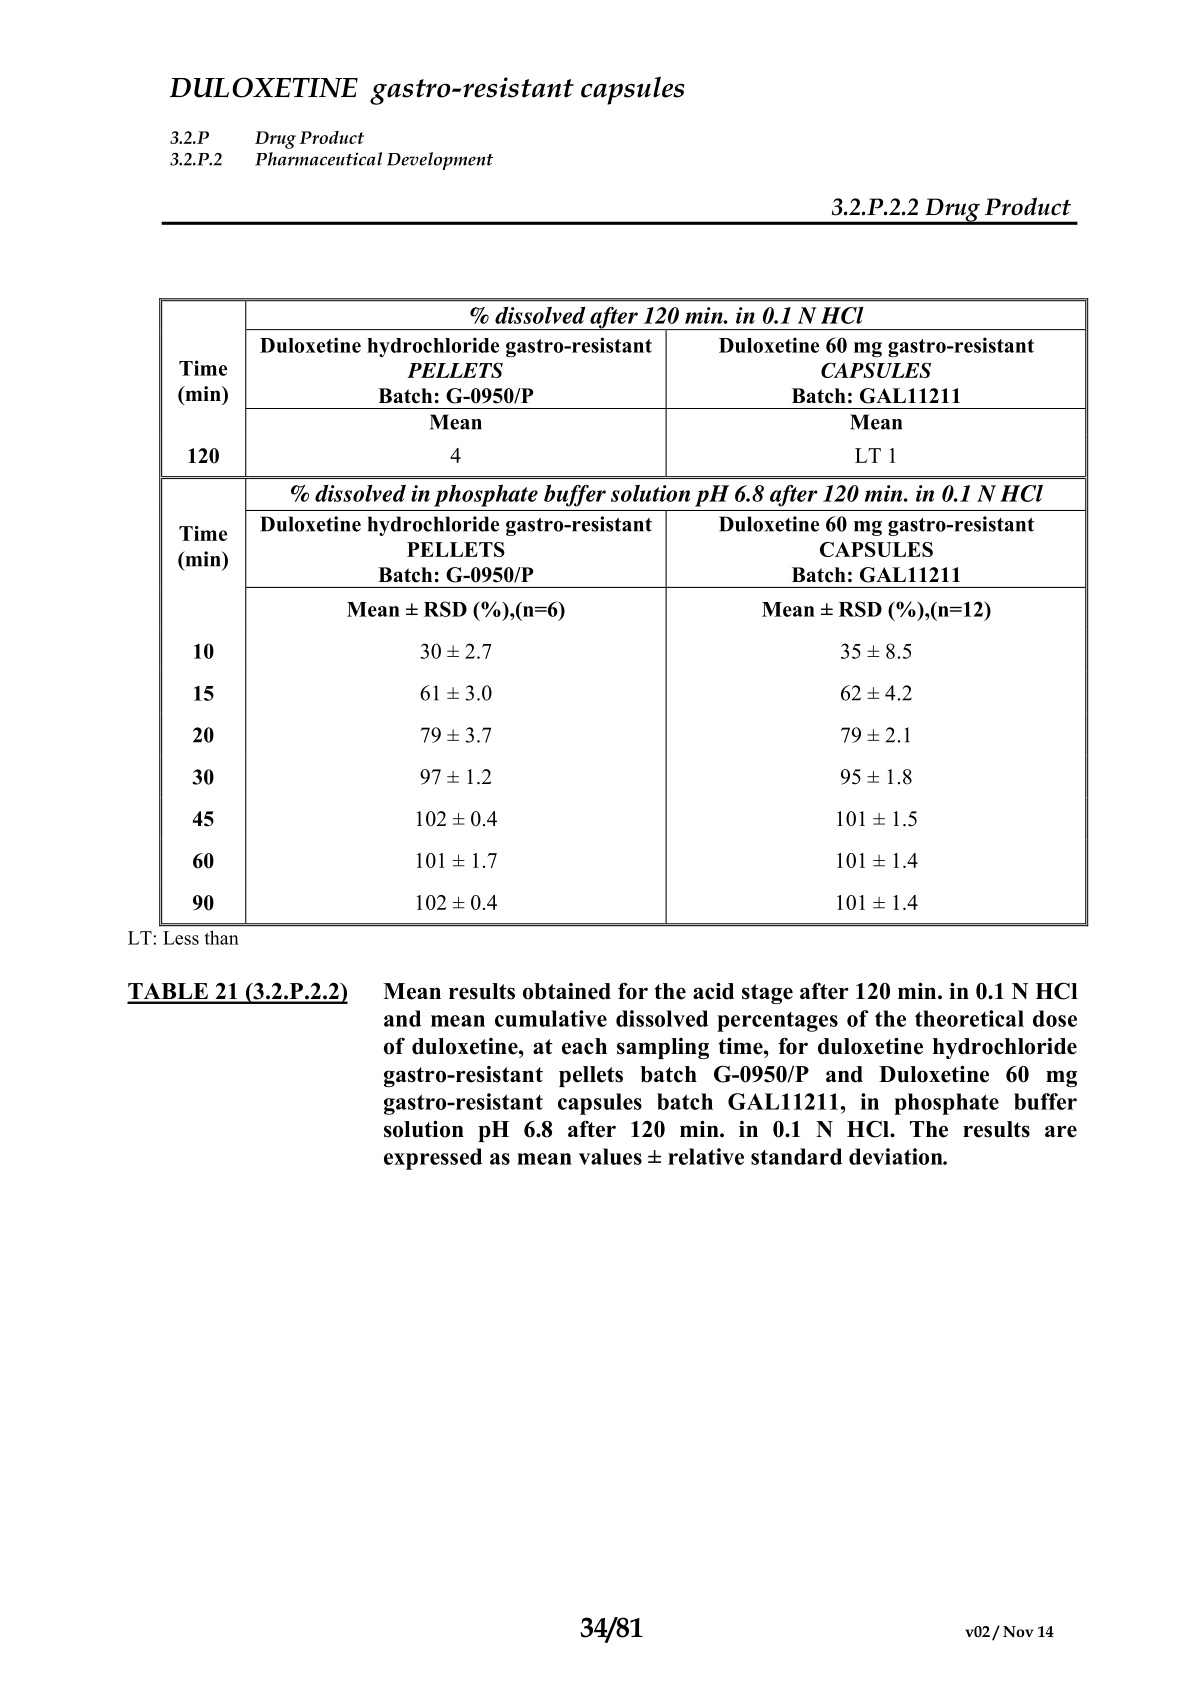partial_lined_merged_cells: (159, 298, 1089, 926)
